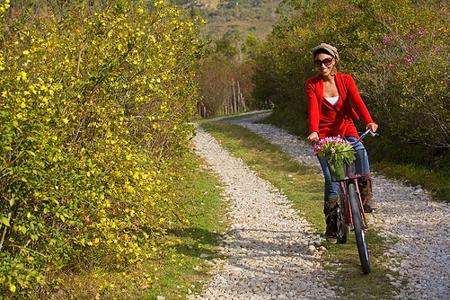person: (306, 44, 381, 244)
